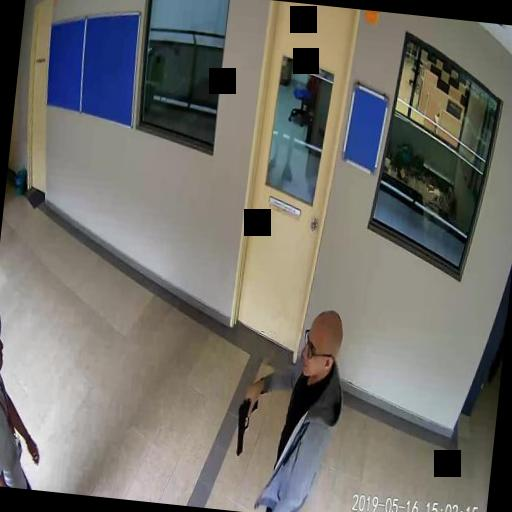Handgun: (232, 387, 258, 456)
